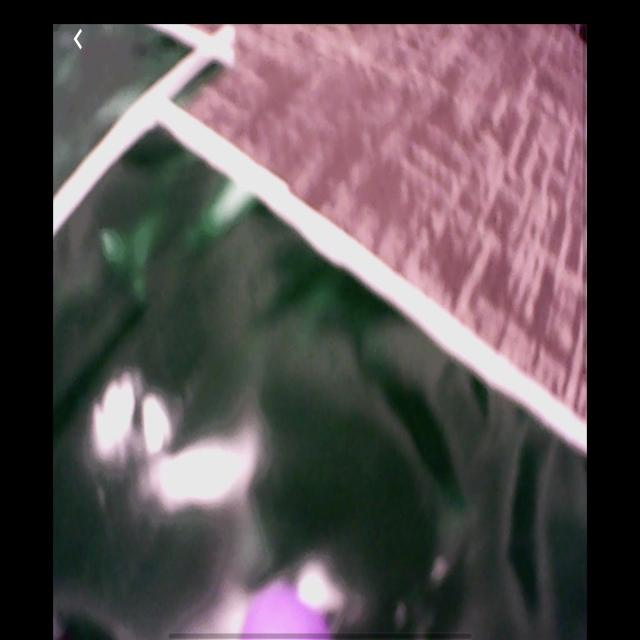ball: (240, 578, 334, 639)
